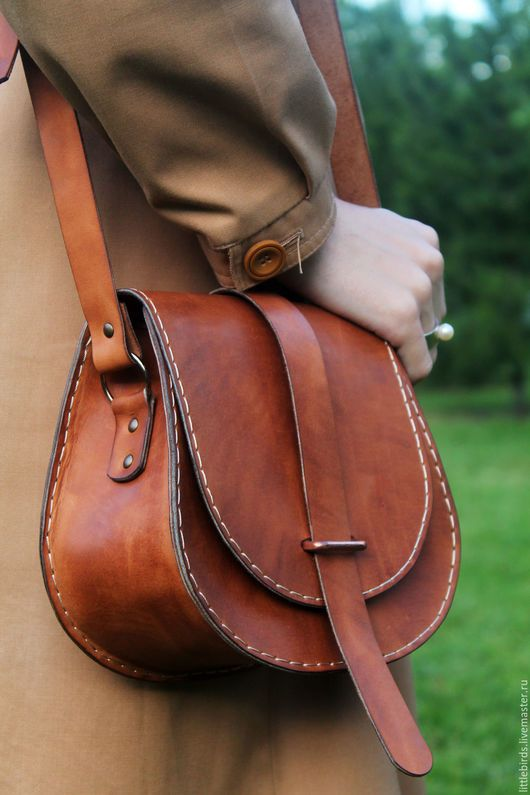cuero: (4, 1, 458, 778)
